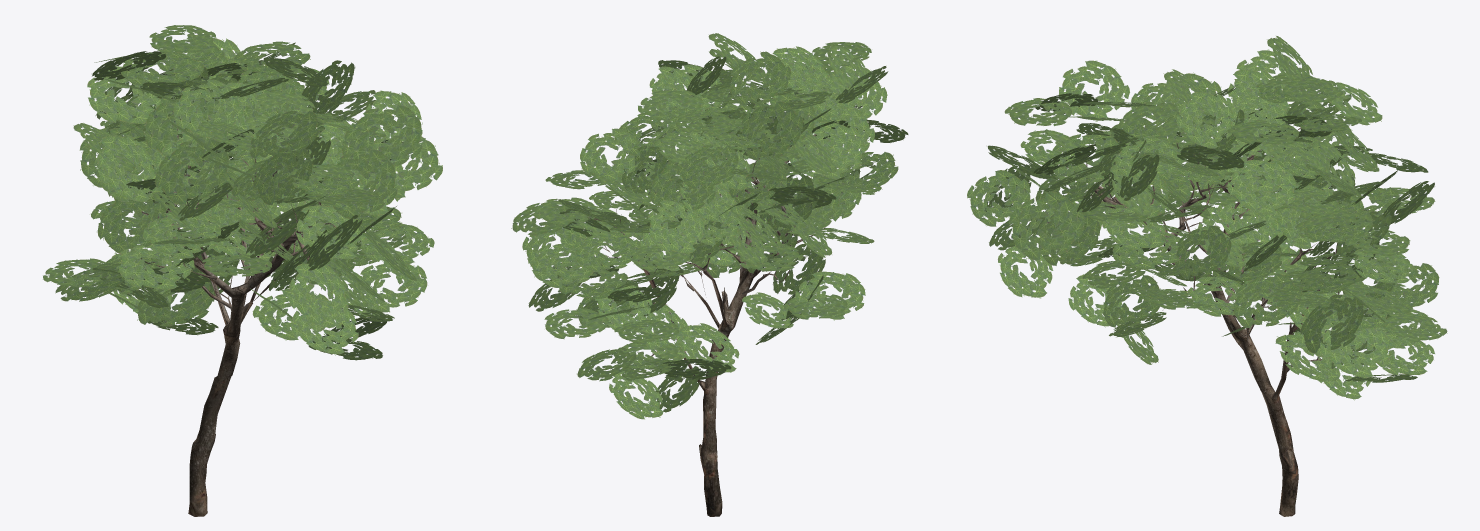
Rendered from tree-small-02-mobile.glb.
3 renders of one model, left to right at view 1: azimuth 30°, elevation 25°; view 2: azimuth 150°, elevation 25°; view 3: azimuth 270°, elevation 25°, orthographic. The views are drawn at different scales.
Parts seen in each view (by area): view 1: tree_small_02_LOD0; view 2: tree_small_02_LOD0; view 3: tree_small_02_LOD0.
Boxes of the visible parts, x1=… form: tree_small_02_LOD0: x1=43, y1=25, x2=442, y2=516; tree_small_02_LOD0: x1=511, y1=33, x2=908, y2=516; tree_small_02_LOD0: x1=967, y1=36, x2=1447, y2=516.
Size of the model in its own units: 3.96 by 4.85 by 5.
Materials: 3 (3 with a texture image).
